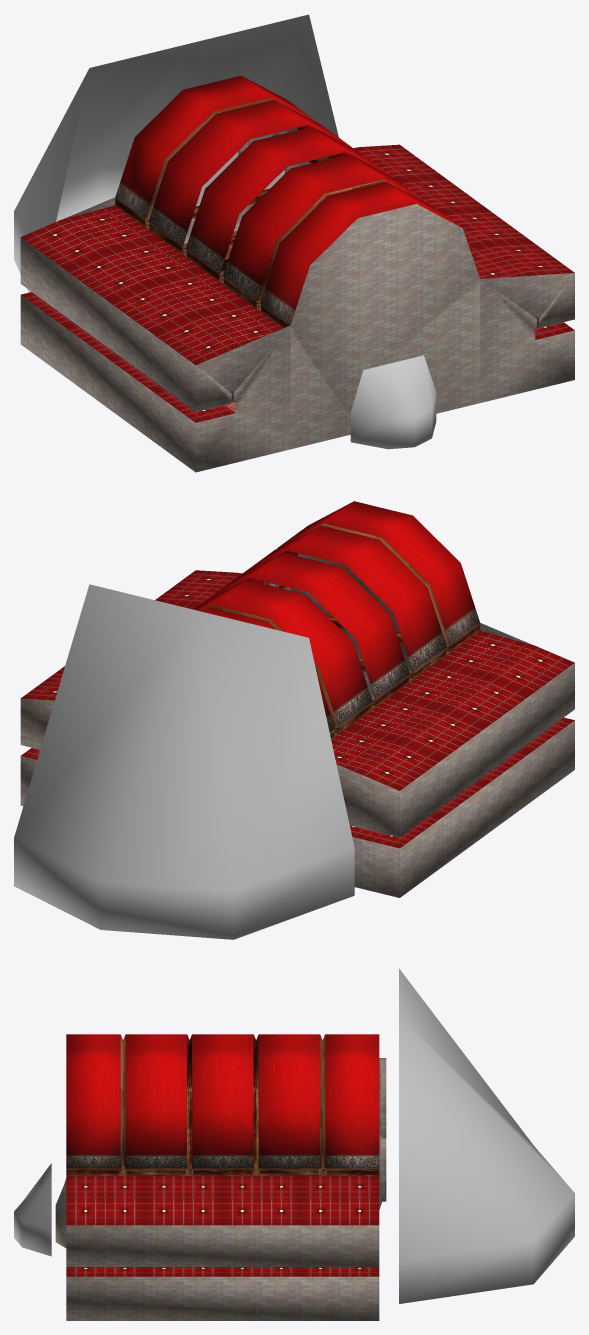
Rendered from ENVI_Gallery.obj.
3 views of the same model, one above another, from view 1: azimuth 30°, elevation 25°; view 2: azimuth 150°, elevation 25°; view 3: azimuth 270°, elevation 25° (orthographic). The views are drawn at different scales.
Parts seen in each view (by area): view 1: ENVI_Gallery, Outside; view 2: Outside, ENVI_Gallery; view 3: ENVI_Gallery, Outside.
Part boxes in pixels (left/top/right/bottom): ENVI_Gallery: left=20, top=75, right=574, bottom=472; Outside: left=14, top=14, right=436, bottom=449; Outside: left=14, top=584, right=354, bottom=939; ENVI_Gallery: left=20, top=501, right=574, bottom=897; ENVI_Gallery: left=55, top=1034, right=386, bottom=1320; Outside: left=14, top=968, right=574, bottom=1303.
Size of the model in its own units: 24 by 15.6 by 34.41.
18 materials, 9 textured.
